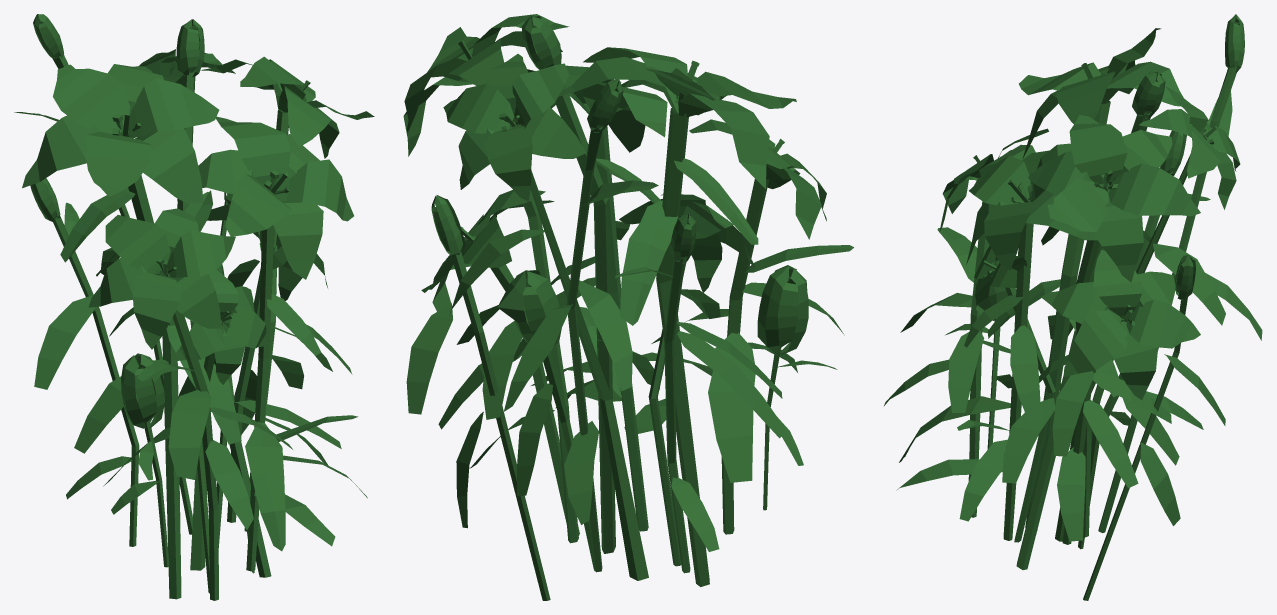
The model's file is plant.fbx.
3 views of the same model, side by side, from view 1: azimuth 30°, elevation 25°; view 2: azimuth 150°, elevation 25°; view 3: azimuth 270°, elevation 25° (orthographic). The views are drawn at different scales.
Visible parts, largest first — view 1: Flower04Plant; view 2: Flower04Plant; view 3: Flower04Plant.
Part boxes in pixels (x1,y1,x2,y2): Flower04Plant: [14, 14, 374, 600]; Flower04Plant: [403, 14, 853, 600]; Flower04Plant: [884, 14, 1262, 600].
Bounding box in the file's own units: 52.41 × 85.57 × 56.49.
